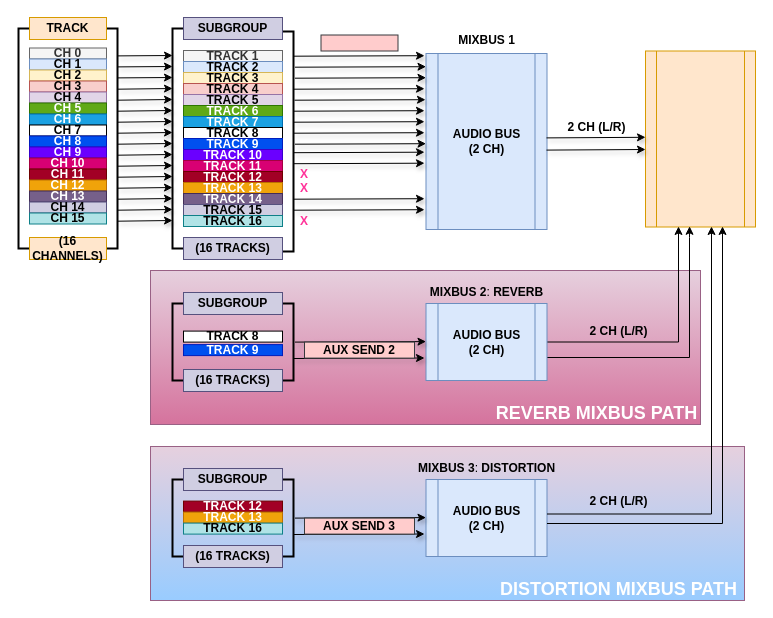
Image size: 773x618. Some labels were removed from this diagram. Each missing label, with the centre of its shape:
"AUX SEND 1" goes at point (359, 42).
"MASTER BUS" goes at point (700, 138).
